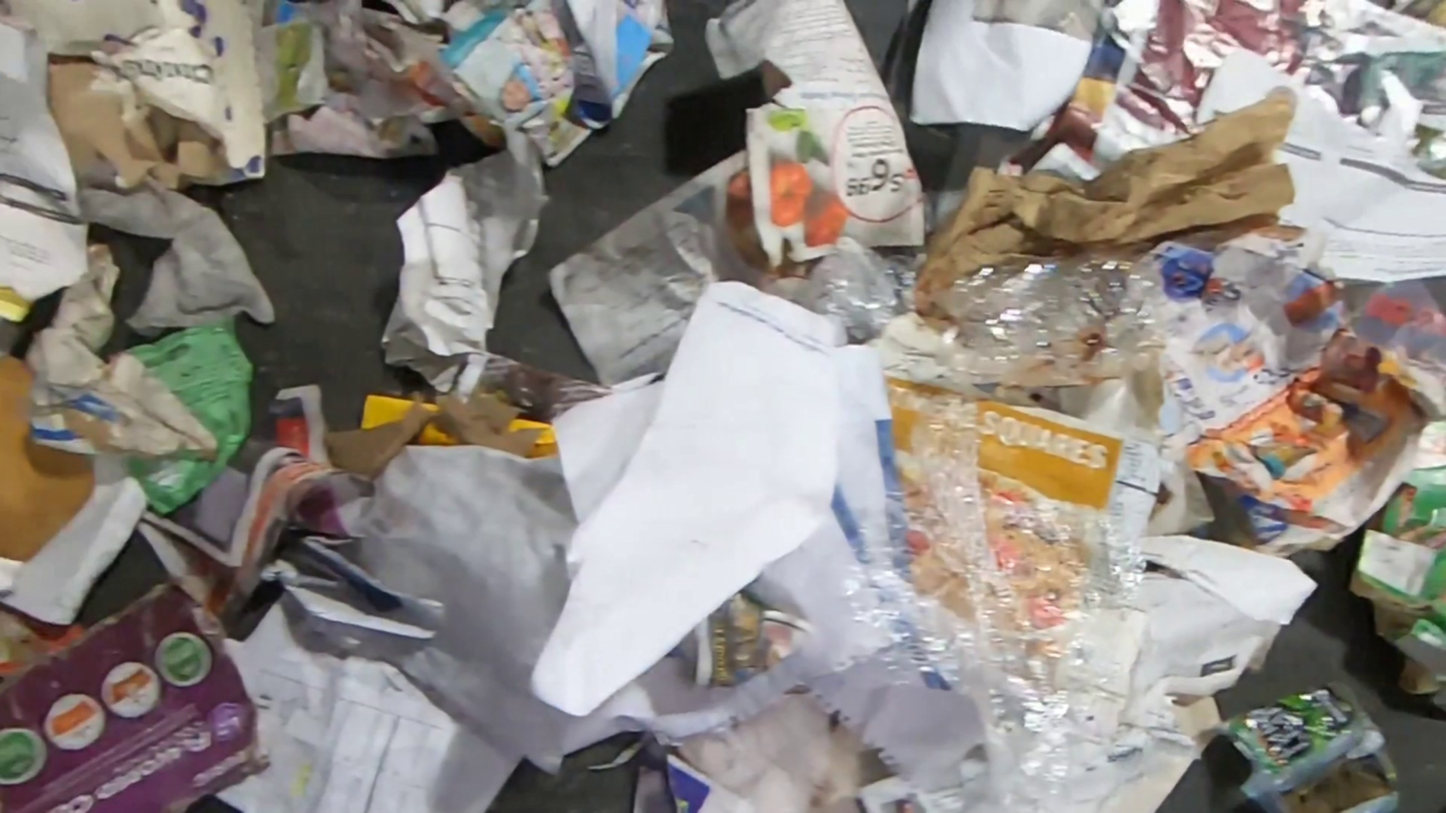cardboard: (920, 88, 1296, 317), (0, 570, 274, 813), (0, 0, 271, 190), (23, 240, 219, 463), (0, 353, 151, 628), (112, 318, 258, 519), (1346, 462, 1446, 696), (1096, 693, 1222, 813), (508, 418, 559, 459), (359, 394, 414, 429), (411, 419, 466, 446)
plastic: (824, 390, 1153, 813), (75, 175, 279, 342), (927, 249, 1169, 382), (1196, 686, 1404, 813), (794, 247, 921, 340)
